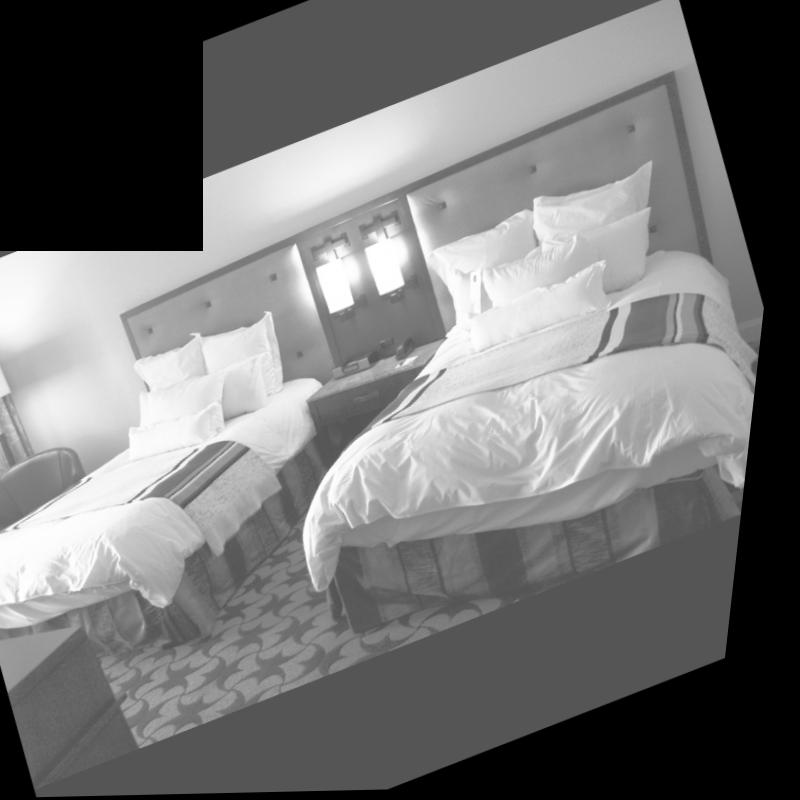pillow: (441, 225, 602, 347), (421, 212, 569, 339), (131, 345, 287, 454), (525, 155, 677, 251), (194, 310, 307, 430), (137, 361, 258, 464), (140, 339, 217, 402)
